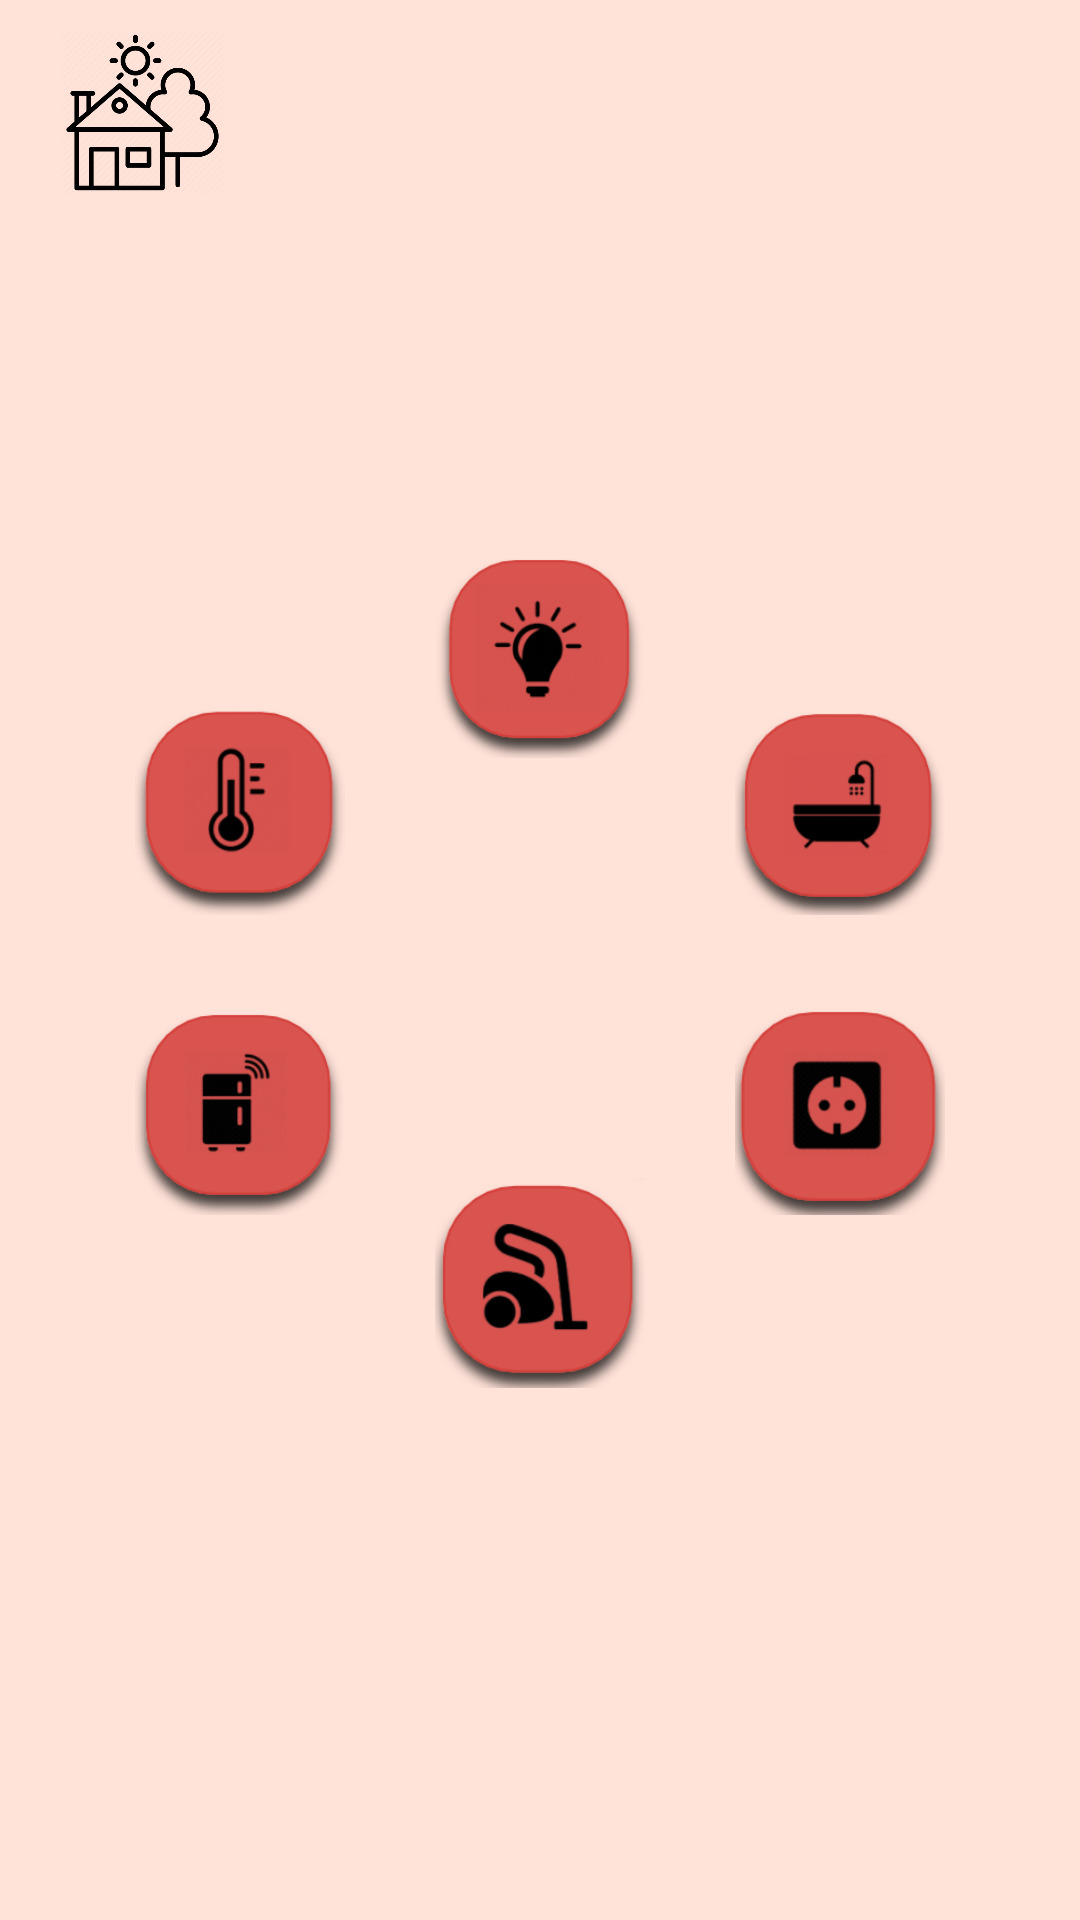

Icons on this 1080*1920 Android screen, each with the point to tap as (x,y):
bathtub: (838,814)
bulb: (539,658)
fridge: (238,1114)
house: (142,112)
socket: (838,1113)
temperature: (239,811)
vacuum: (537,1286)
